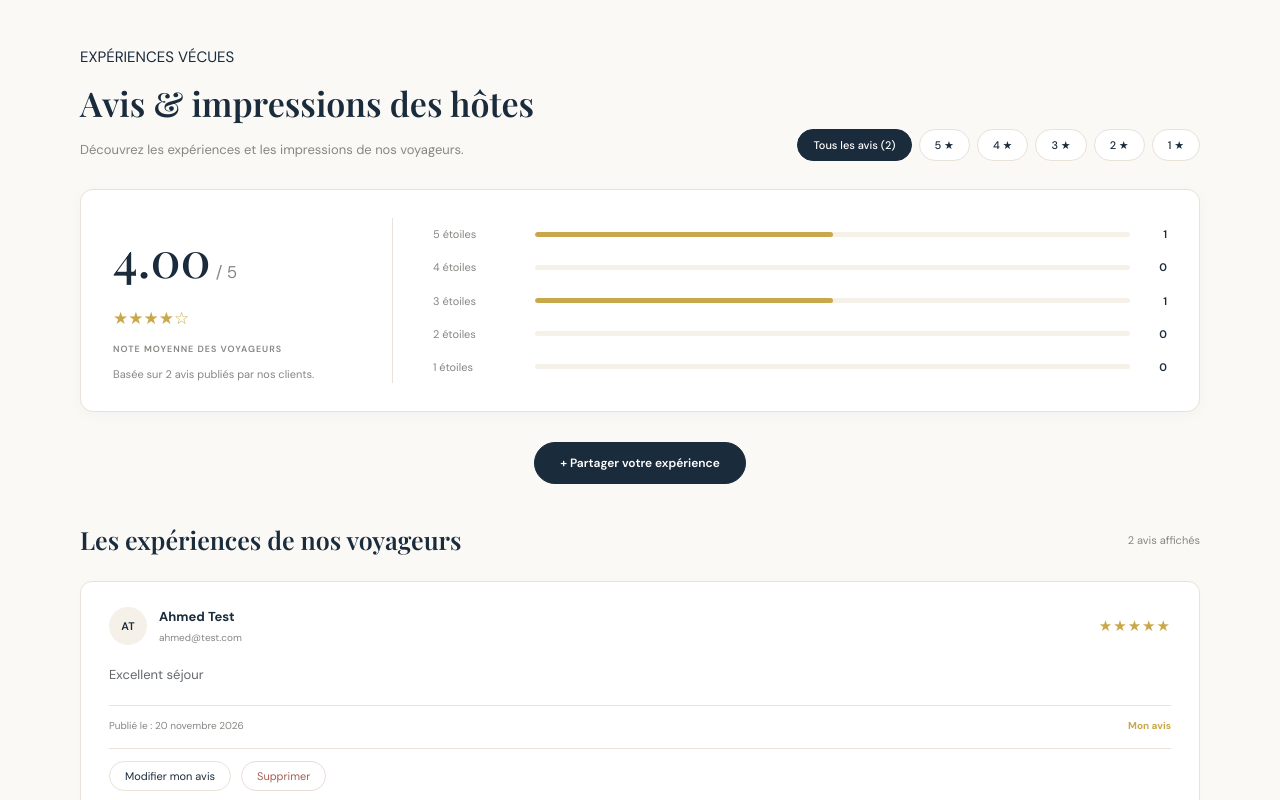
Test case: ClientAvisPage › publie un nouvel avis
Check: the text "Excellent séjour" is shown, box [109,666,204,684]
Click the button "+ Partager votre expérience".
click(640, 463)  # box [534,442,746,484]
(page scrolled)
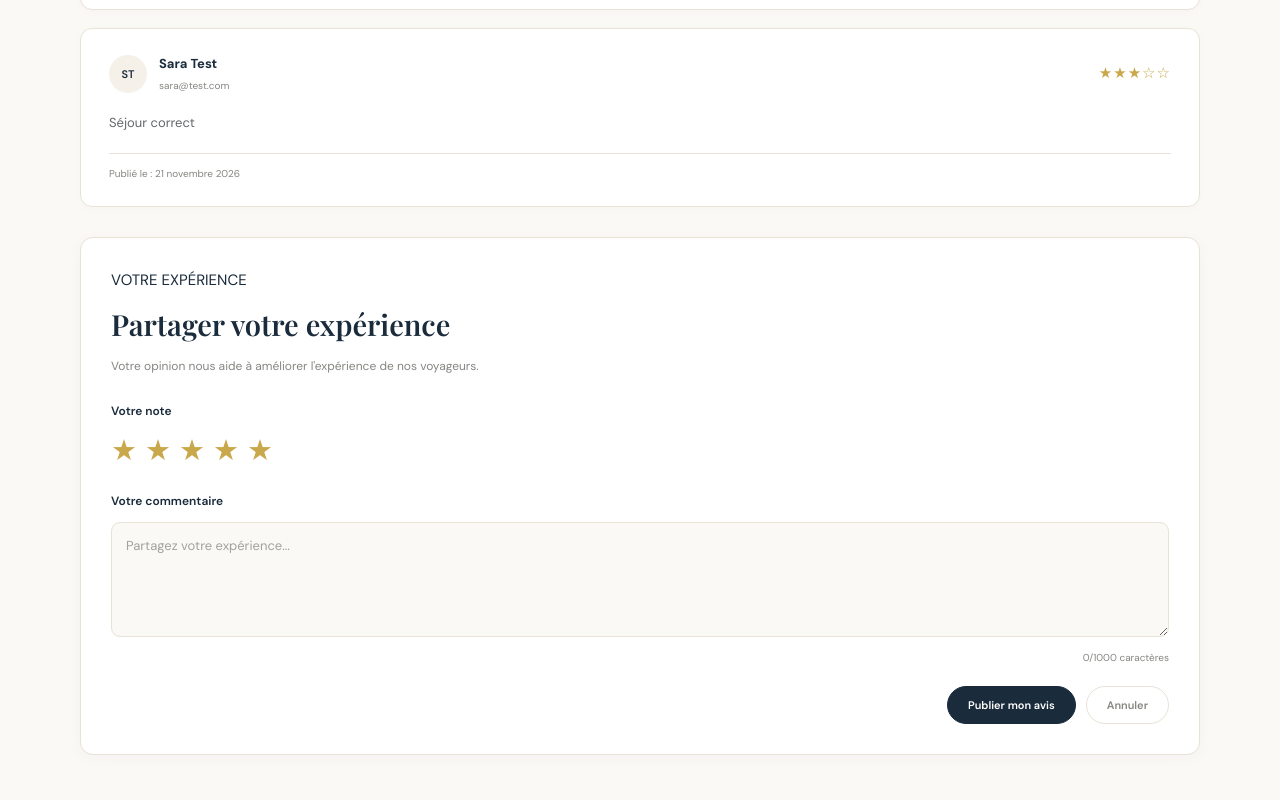
Type "  Très bon séjour  " into the text box labelled "Votre commentaire".
click(640, 580); type("  Très bon séjour  ")  # box [111,522,1169,637]
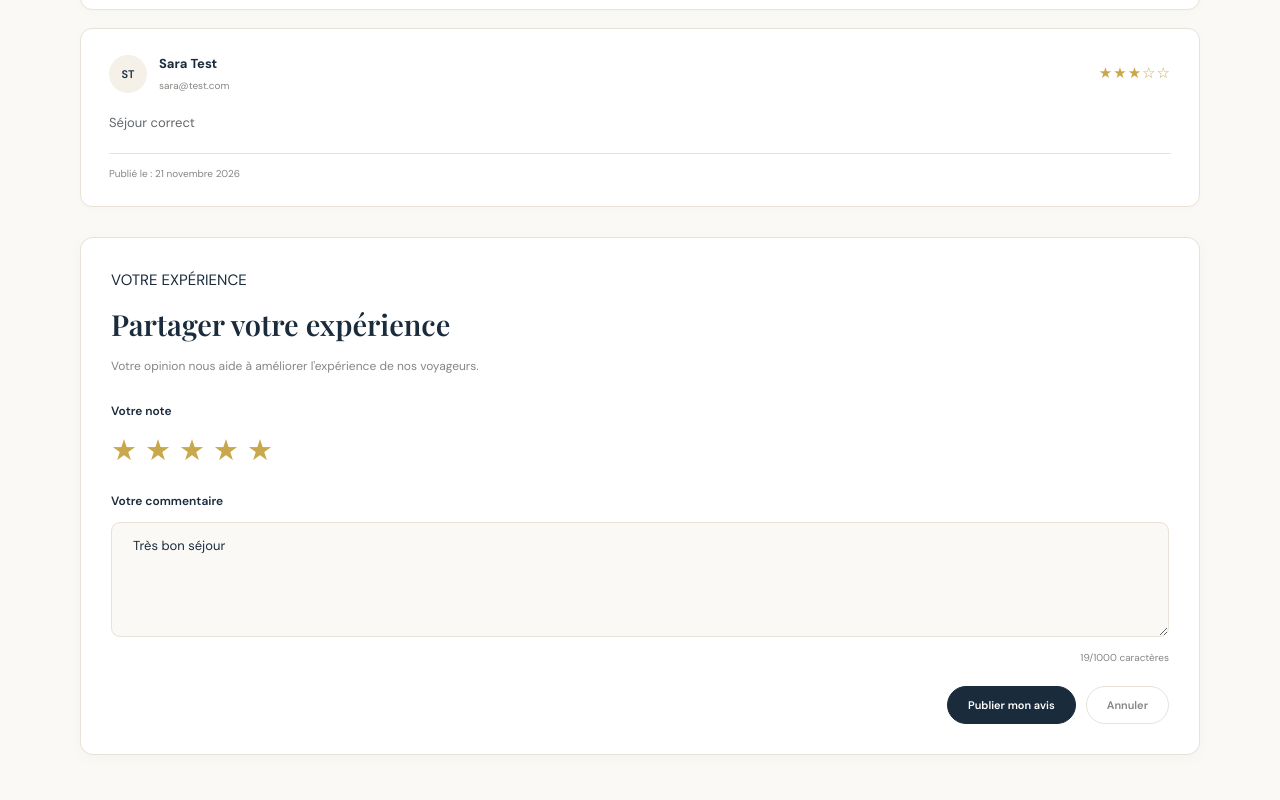
Click the button "Publier mon avis".
click(1011, 705)  # box [947,686,1076,724]
(page scrolled)
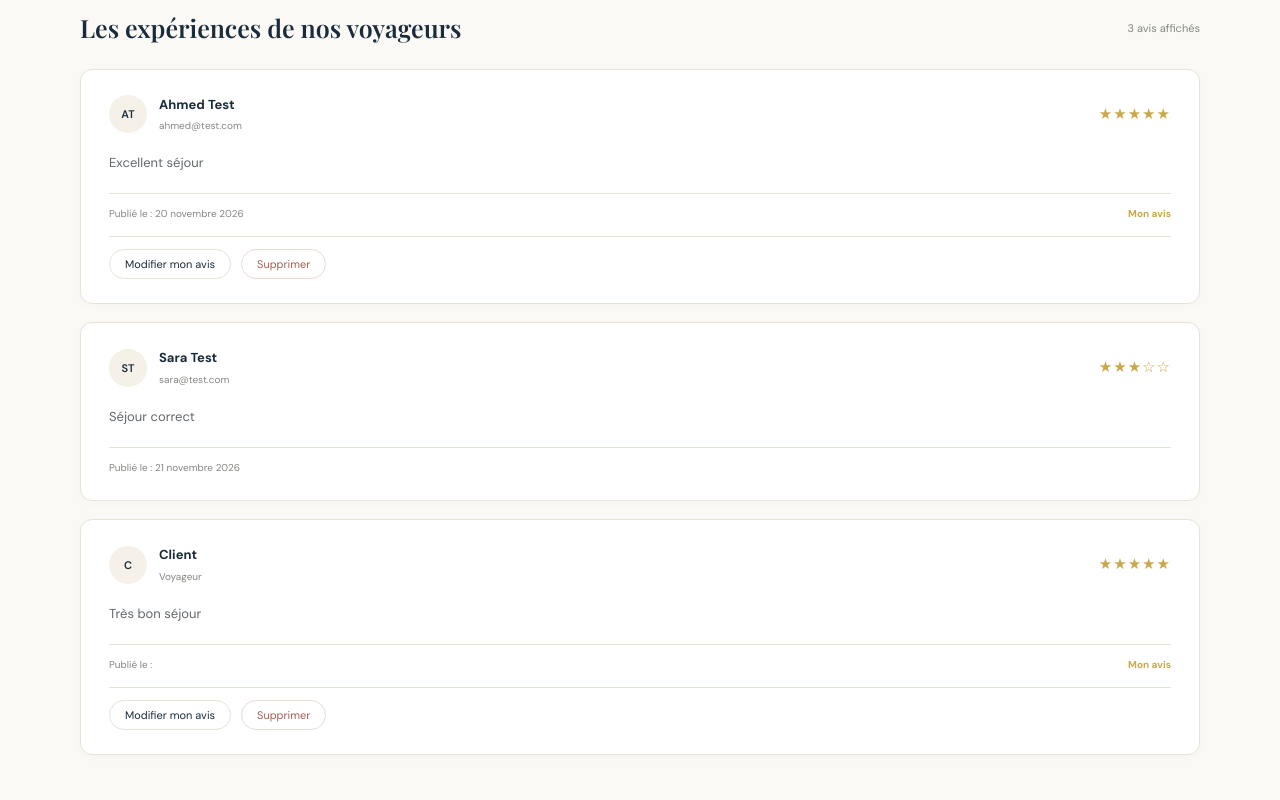
Check: the text "Très bon séjour" is shown, box [109,605,201,622]
